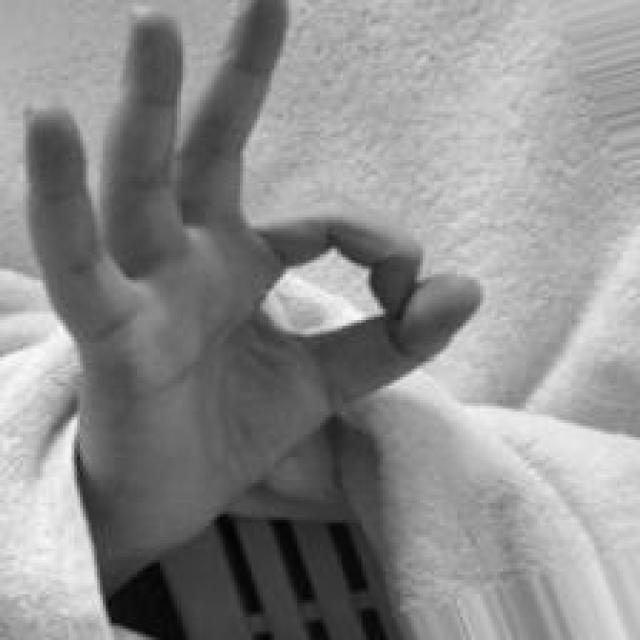O: (17, 0, 485, 559)
